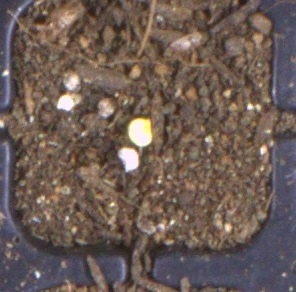chilli seed: (127, 117, 154, 148)
